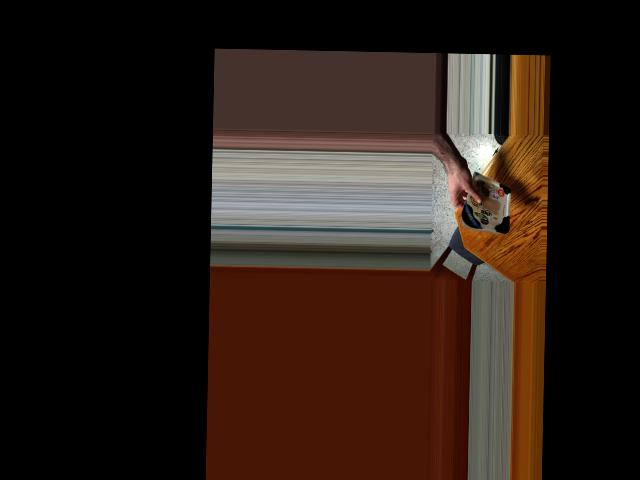cheese: (468, 176, 506, 235)
